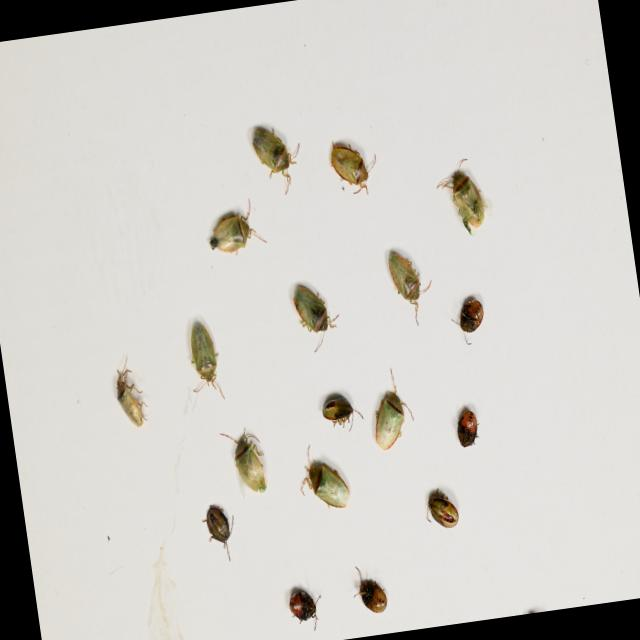stinkbug: (434, 156, 495, 238), (366, 365, 419, 457), (248, 120, 306, 199), (386, 244, 439, 330), (295, 439, 353, 514), (291, 276, 344, 356), (183, 318, 226, 404), (220, 426, 269, 496), (112, 356, 150, 432)
